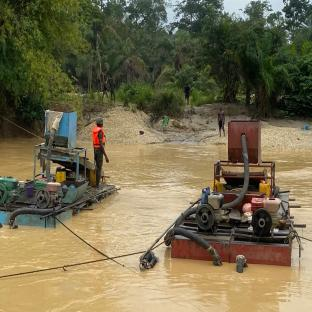ProcessingEquipment: (166, 116, 306, 271), (3, 106, 118, 236)
